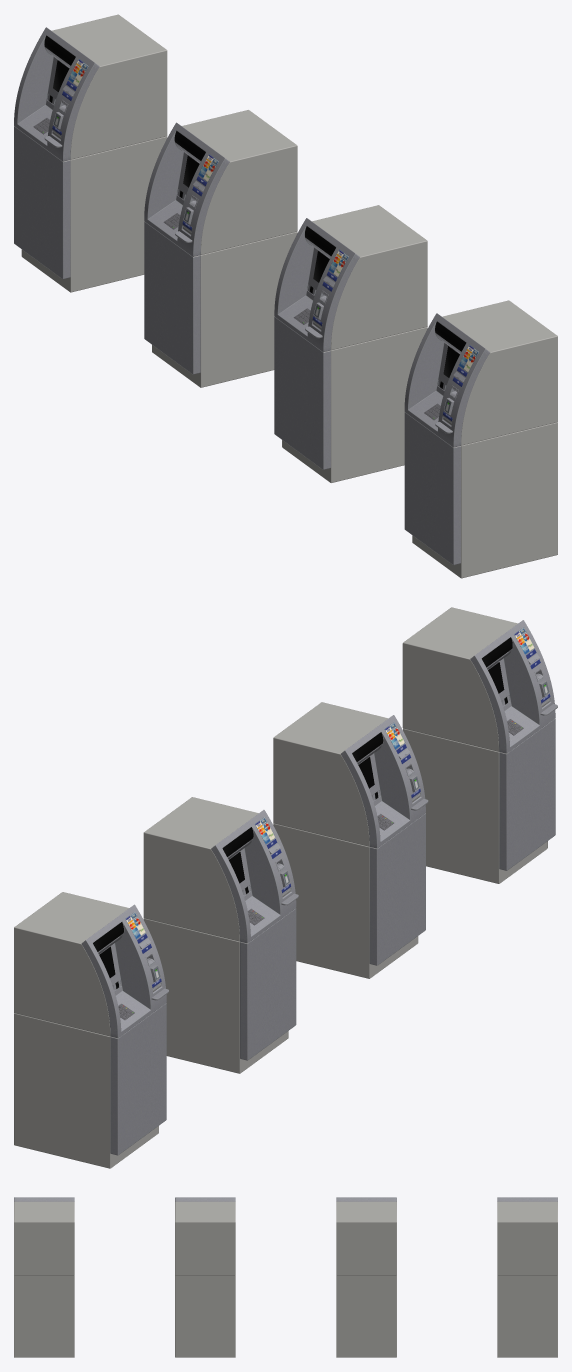
Rendered from cajero.fbx.
3 renders of one model, top to bottom at view 1: azimuth 30°, elevation 25°; view 2: azimuth 150°, elevation 25°; view 3: azimuth 270°, elevation 25°, orthographic. The views are drawn at different scales.
Parts seen in each view (by area): view 1: _Object04, _Object07, _Object05, _Object06; view 2: _Object07, _Object06, _Object04, _Object05; view 3: _Object04, _Object05, _Object06, _Object07.
Part boxes in pixels (x1,y1,x2,y2): _Object04: [404, 300, 557, 578]; _Object07: [14, 14, 167, 292]; _Object05: [274, 205, 427, 482]; _Object06: [144, 110, 297, 387]; _Object07: [14, 892, 169, 1168]; _Object06: [143, 797, 298, 1073]; _Object04: [402, 607, 557, 883]; _Object05: [273, 702, 428, 978]; _Object04: [14, 1197, 74, 1357]; _Object05: [175, 1197, 235, 1357]; _Object06: [336, 1197, 396, 1357]; _Object07: [497, 1197, 557, 1357].
Bounding box in the file's own units: 0.9558 × 1.86 × 6.63.
1 material, 1 textured.
